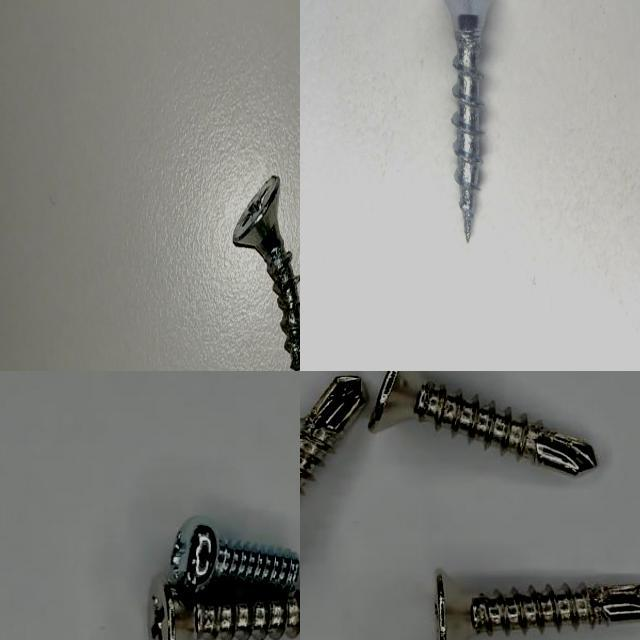Screw: (367, 371, 596, 474), (434, 570, 640, 640), (233, 175, 300, 370), (444, 0, 491, 241), (168, 518, 299, 595), (148, 583, 300, 640), (300, 377, 366, 488)
